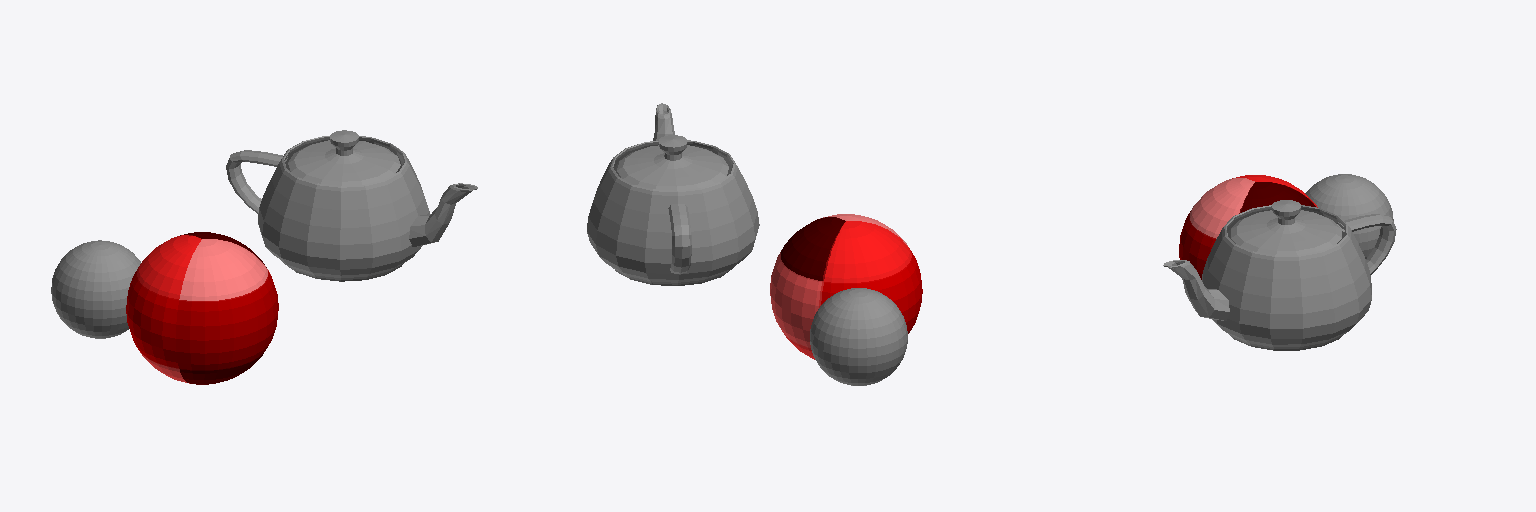
3 renders of one model, left to right at view 1: azimuth 30°, elevation 25°; view 2: azimuth 150°, elevation 25°; view 3: azimuth 270°, elevation 25°, orthographic.
Visible parts, largest first — view 1: o_teapot, g_sphere_00, g_sphere_01; view 2: o_teapot, g_sphere_00, g_sphere_01; view 3: o_teapot, g_sphere_00, g_sphere_01.
Part boxes in pixels (left/top/right/bottom): o_teapot: left=226, top=130, right=477, bottom=281; g_sphere_00: left=126, top=232, right=278, bottom=384; g_sphere_01: left=51, top=240, right=140, bottom=338; o_teapot: left=587, top=103, right=759, bottom=285; g_sphere_00: left=770, top=214, right=922, bottom=359; g_sphere_01: left=810, top=288, right=907, bottom=385; o_teapot: left=1163, top=200, right=1396, bottom=350; g_sphere_00: left=1179, top=175, right=1317, bottom=279; g_sphere_01: left=1305, top=174, right=1393, bottom=258.
Bounding box in the file's own units: 2.2 × 1.22 × 1.34.
3 materials, 1 textured.